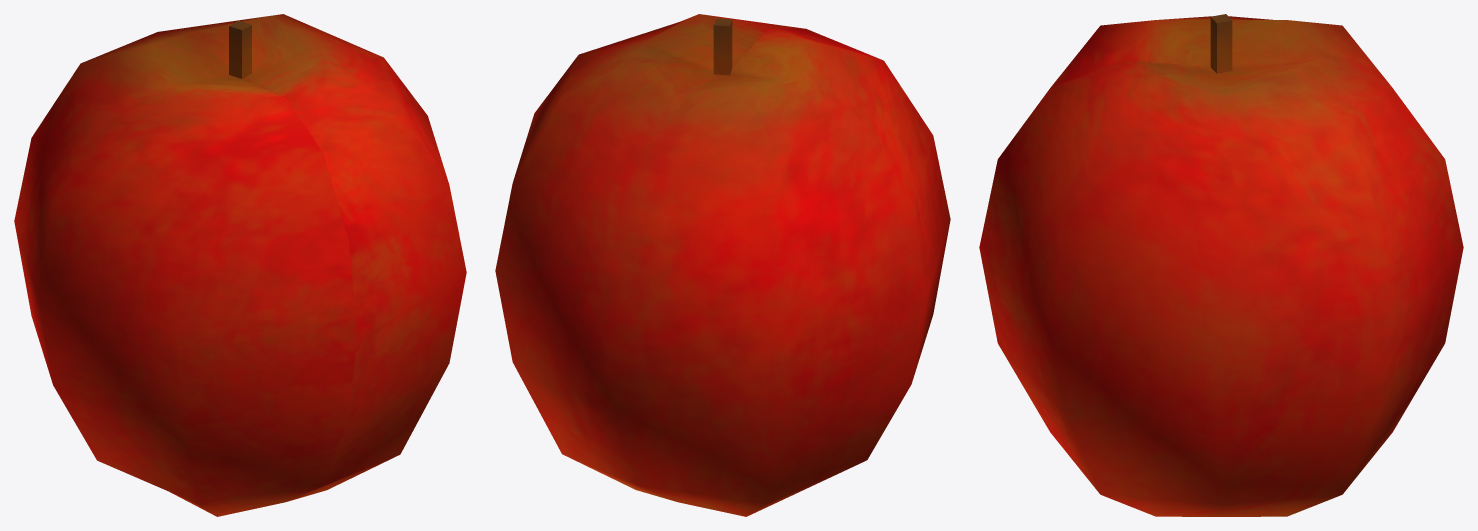
The model's file is Apple.fbx.
The picture shows the model from 3 angles, left to right: view 1: azimuth 30°, elevation 25°; view 2: azimuth 150°, elevation 25°; view 3: azimuth 270°, elevation 25°; orthographic projection. The views are drawn at different scales.
Parts seen in each view (by area): view 1: pSphere1; view 2: pSphere1; view 3: pSphere1.
Part boxes in pixels (x1,y1,x2,y2): pSphere1: [14, 14, 466, 516]; pSphere1: [495, 14, 950, 516]; pSphere1: [979, 14, 1463, 516].
Size of the model in its own units: 0.2 by 0.2143 by 0.2.
